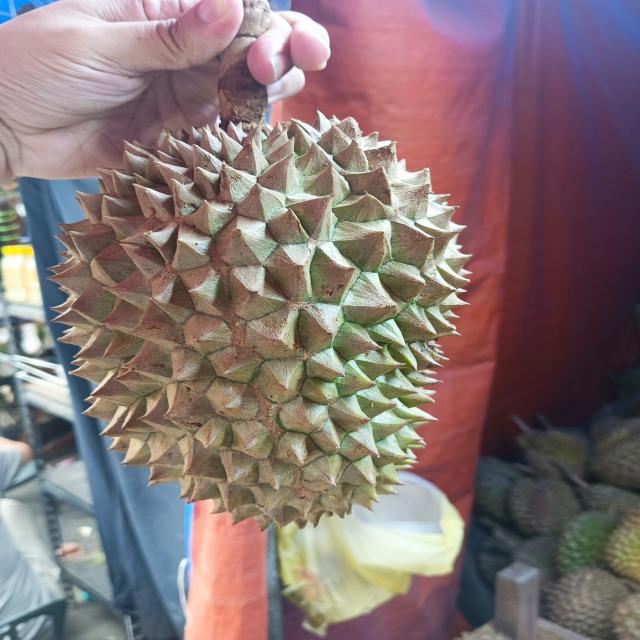mature: (50, 101, 494, 551)
